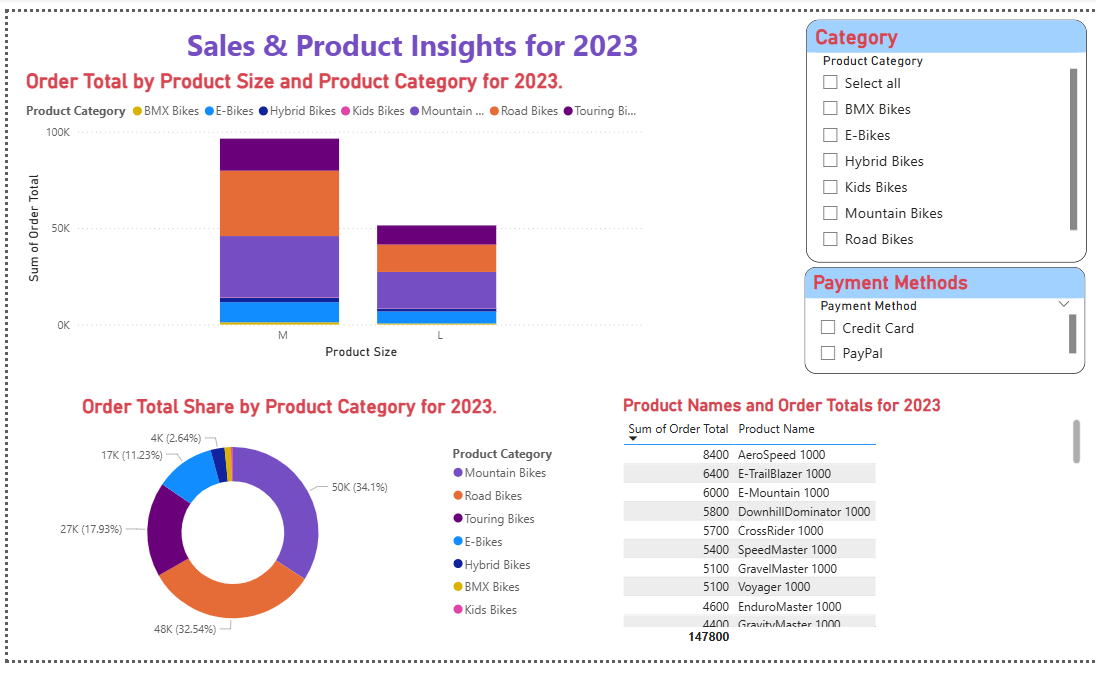

The dashboard page shown, as its layout file describes it:
{"tool":"powerbi","page":{"name":"Page 1","canvas":[1280,720],"ordinal":0},"visuals":[{"type":"slicer","title":"Category","fields":{"Values":["AdventureWorks_Dataset csv.Product Category"]},"box":[886.7,8.3,311.7,270],"z":0},{"type":"slicer","title":"Payment Methods","fields":{"Values":["AdventureWorks_Dataset csv.Payment Method"]},"box":[885,283.3,311.7,118.3],"z":1000},{"type":"columnChart","title":"Order Total by Product Size and Product Category for 2023.","fields":{"Category":["AdventureWorks_Dataset csv.Product Size"],"Y":["Sum(AdventureWorks_Dataset csv.Order Total)"],"Series":["AdventureWorks_Dataset csv.Product Category"]},"box":[15,63.3,696.7,326.7],"z":1001},{"type":"donutChart","title":"Order Total Share by Product Category for 2023.","fields":{"Y":["Sum(AdventureWorks_Dataset csv.Order Total)"],"Category":["AdventureWorks_Dataset csv.Product Category"]},"box":[0,425,625,281.7],"z":1002},{"type":"tableEx","title":"Product Names and Order Totals for 2023","fields":{"Values":["Sum(AdventureWorks_Dataset csv.Order Total)","AdventureWorks_Dataset csv.Product Name"]},"box":[678.3,425,518.3,283.3],"z":1003},{"type":"textbox","box":[15,8.3,870,55],"z":1004}]}

Visuals, with their boxes on the page's 1280x720 design canvas (x1, y1, x2, y2). These are canvas units, not pixel positions in the 1096x673 screenshot, which may show the page scaled, cropped or inside an application window:
"Category" slicer: {"left": 887, "top": 8, "right": 1198, "bottom": 278}
"Payment Methods" slicer: {"left": 885, "top": 283, "right": 1197, "bottom": 402}
"Order Total by Product Size and Product Category for 2023." columnChart: {"left": 15, "top": 63, "right": 712, "bottom": 390}
"Order Total Share by Product Category for 2023." donutChart: {"left": 0, "top": 425, "right": 625, "bottom": 707}
"Product Names and Order Totals for 2023" tableEx: {"left": 678, "top": 425, "right": 1197, "bottom": 708}
textbox: {"left": 15, "top": 8, "right": 885, "bottom": 63}
